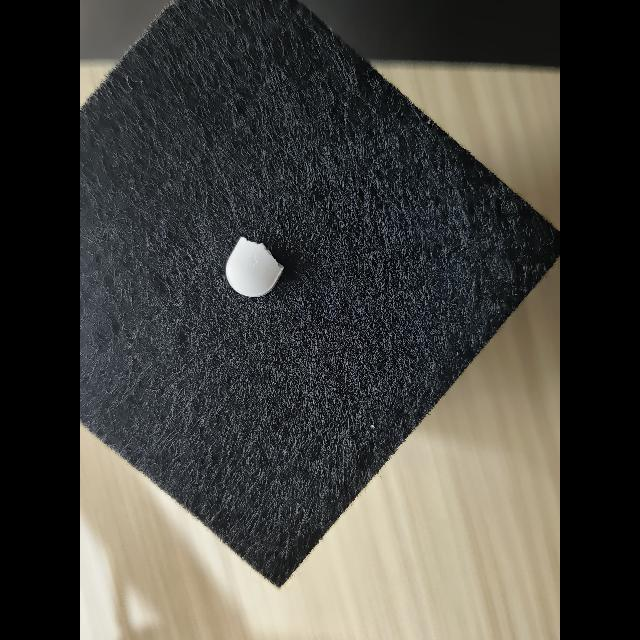Chipped Pill: (226, 237, 284, 297)
